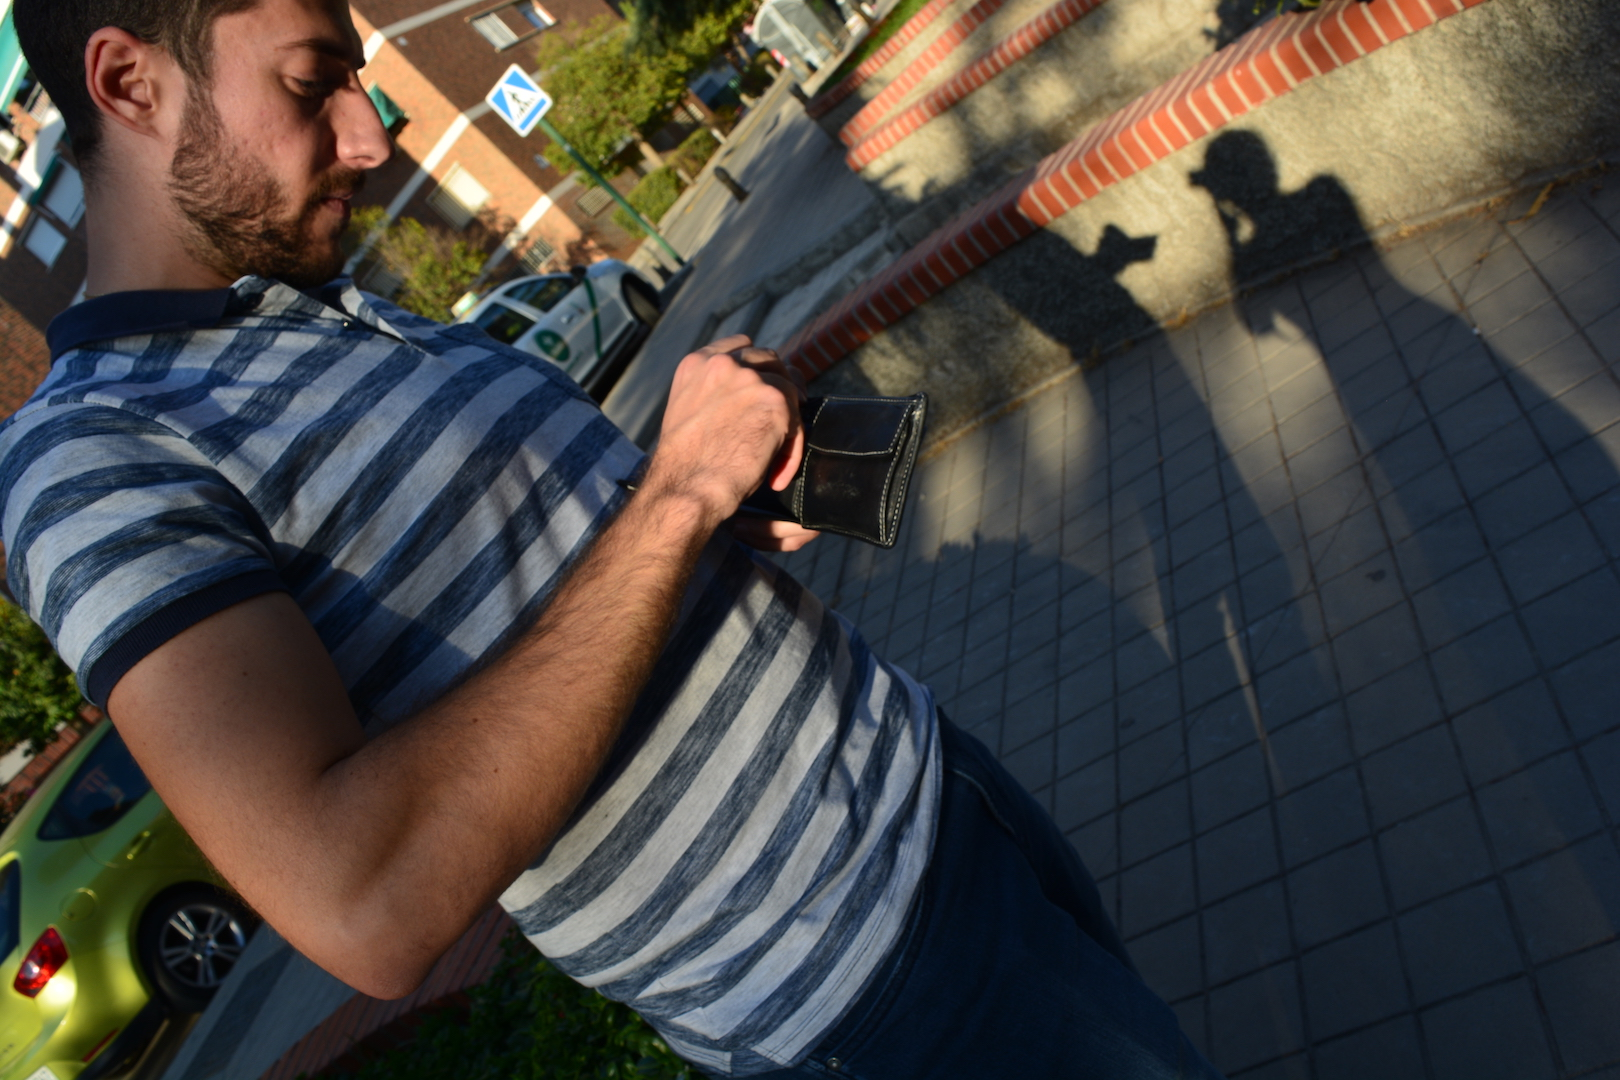monedero: (709, 391, 938, 551)
